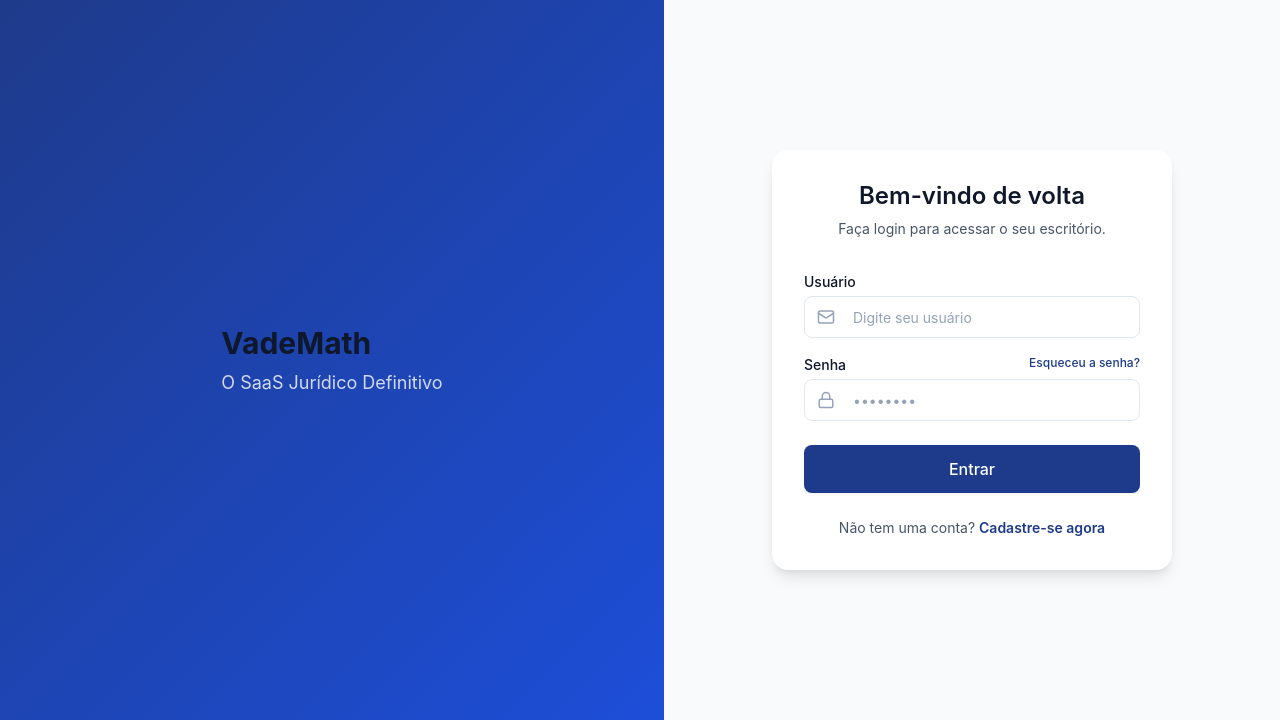
Login Component › handles unhappy path (401 Unauthorized from MSW)
Type "invalido" into the field with placeholder "Digite seu usuário" at (972, 317), box [805,297,1139,337]
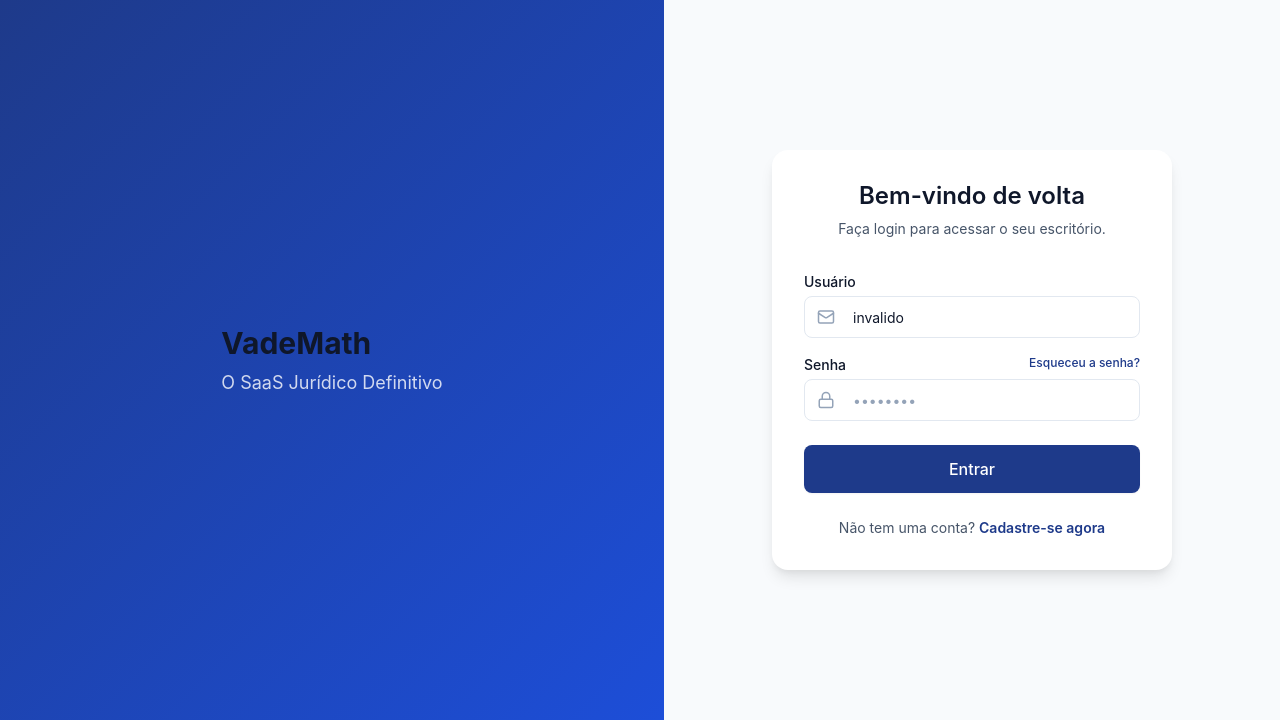
Type "senha_qualquer123" into the password field with placeholder "••••••••" at (972, 400), box [805,380,1139,420]
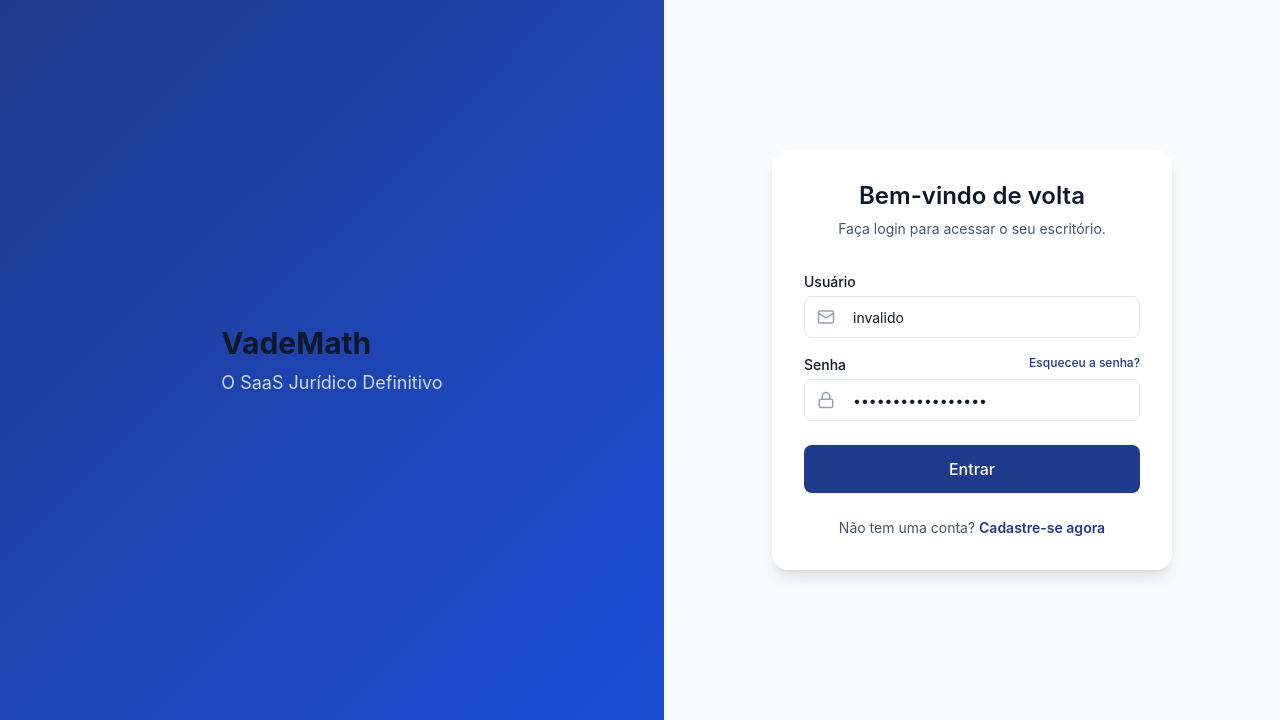
Click the button "Entrar" at (972, 469), box [804,445,1140,493]
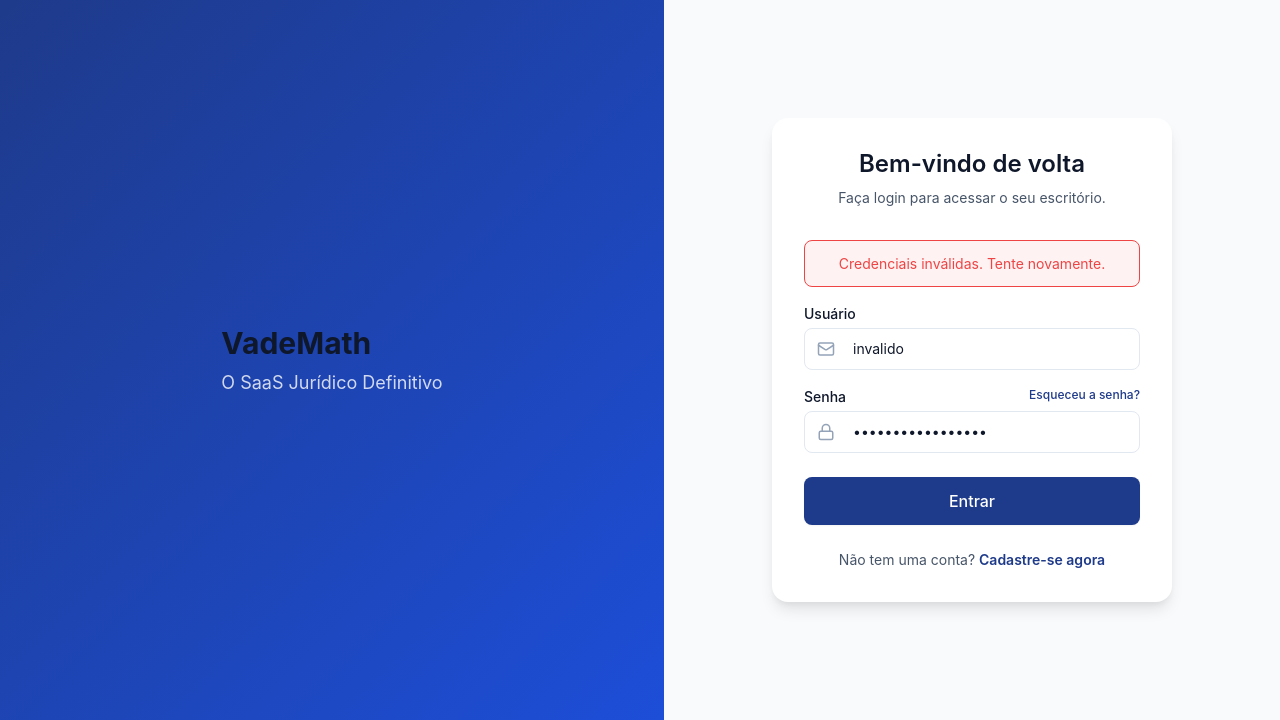
expect the text "Credenciais inválidas. Tente novamente." is shown: met, box [804,240,1140,287]
